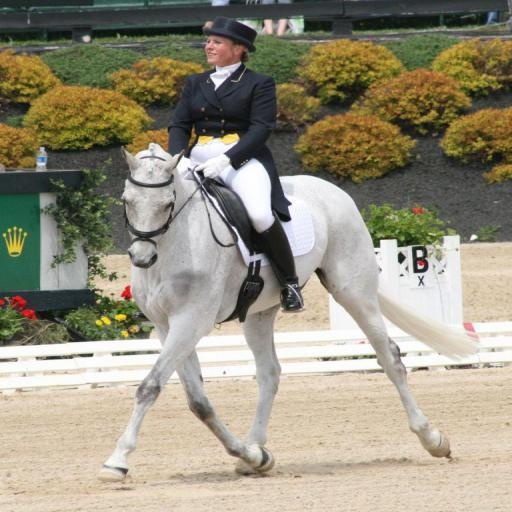horse: (92, 140, 483, 480)
